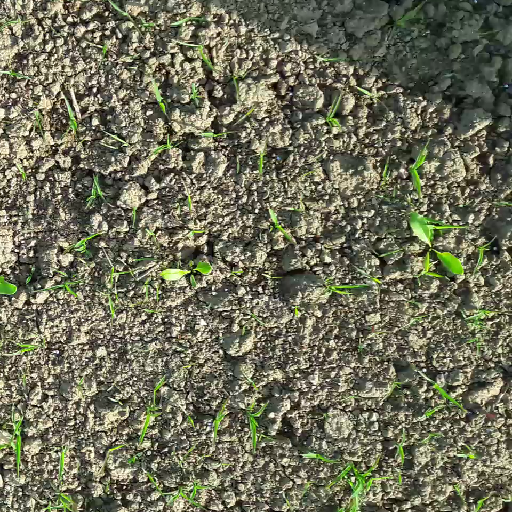sugarbeet: (403, 208, 469, 282), (154, 258, 215, 292)
weed: (5, 2, 429, 217), (1, 373, 510, 511), (24, 228, 161, 315), (462, 309, 494, 354), (265, 207, 297, 245), (321, 281, 366, 298), (240, 309, 266, 335), (1, 342, 42, 357), (178, 229, 208, 238), (407, 315, 428, 326)
